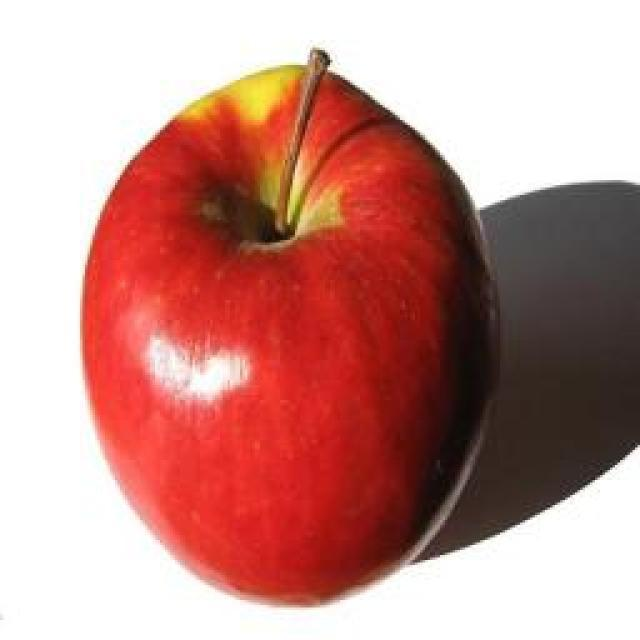Apple: (82, 50, 496, 603)
